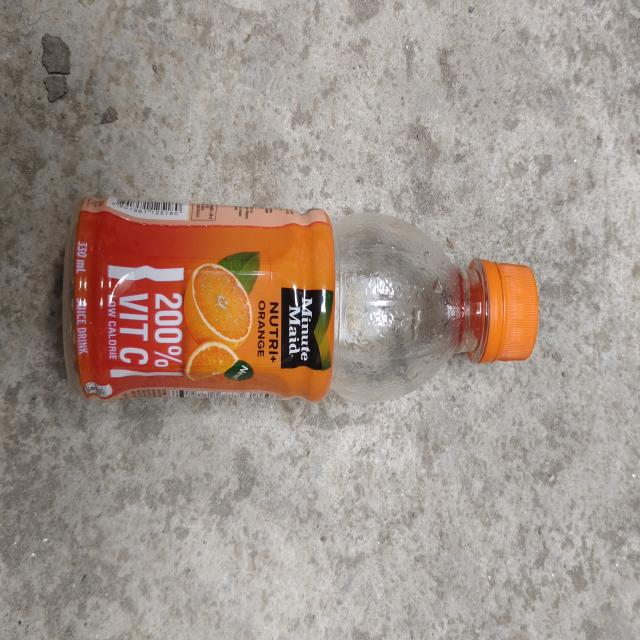Bottle: (63, 197, 542, 404)
